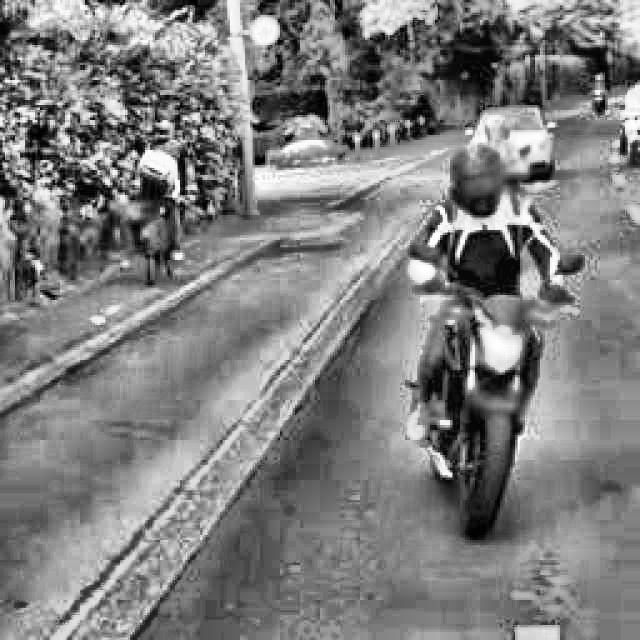motorcycle: (374, 233, 590, 536), (116, 130, 202, 286)
